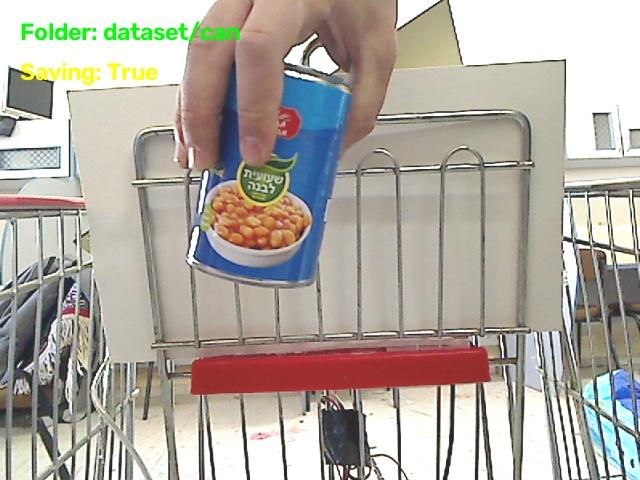can: (187, 66, 350, 286)
